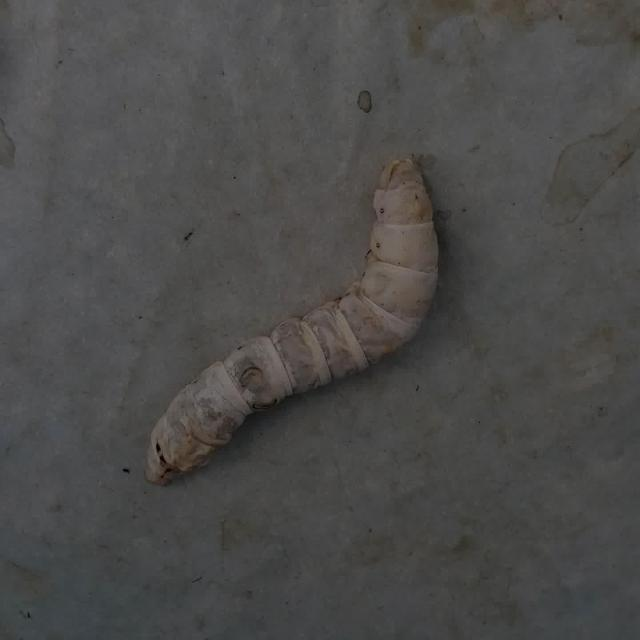Grasserie: (125, 116, 485, 542)
